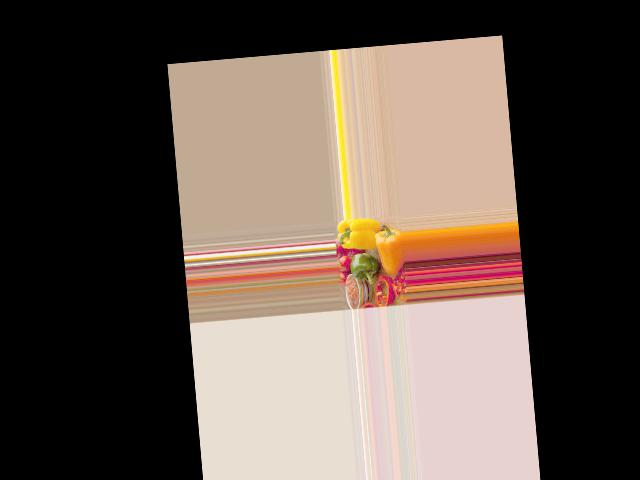bell_pepper: (336, 217, 375, 252)
